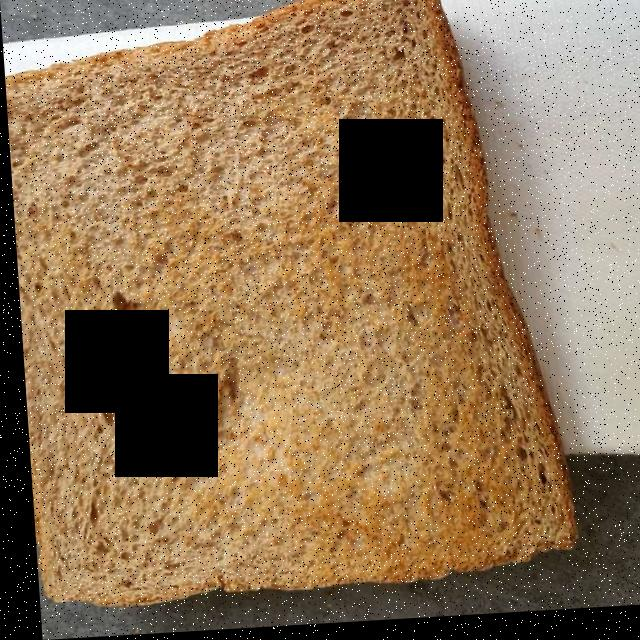bread-wholemeal-toast: (12, 0, 560, 602)
